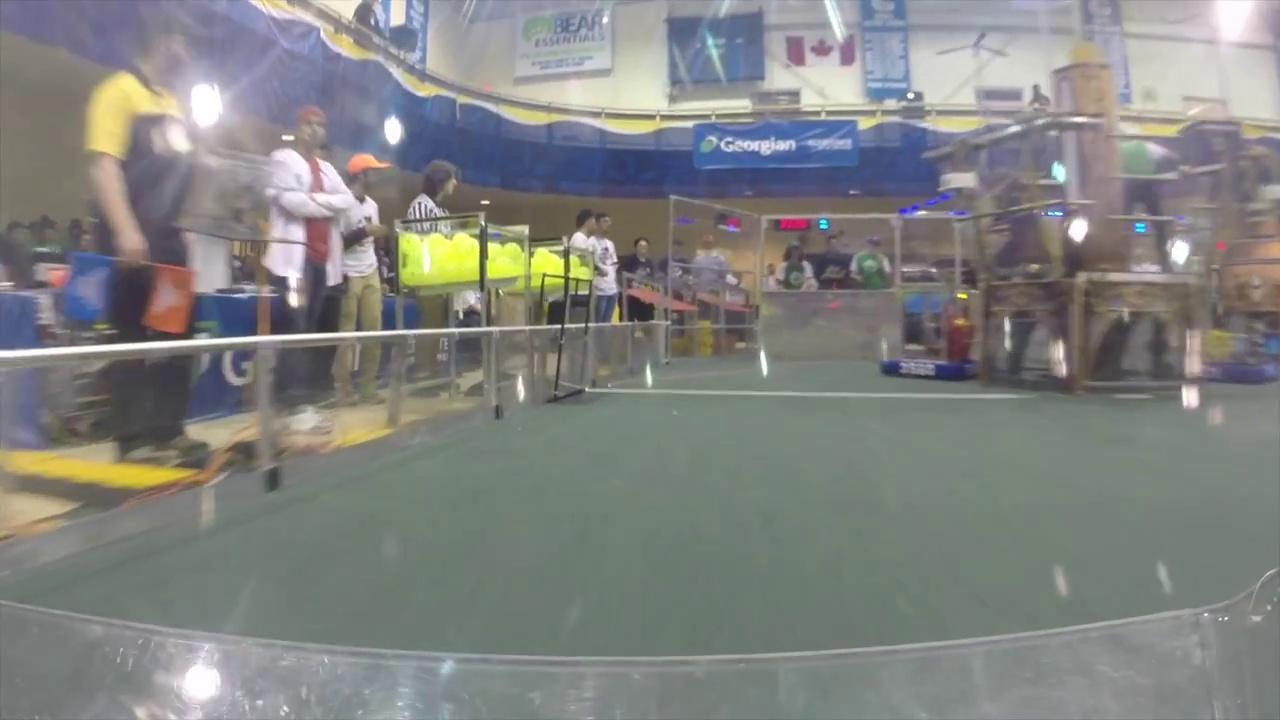robot: (876, 290, 985, 388)
